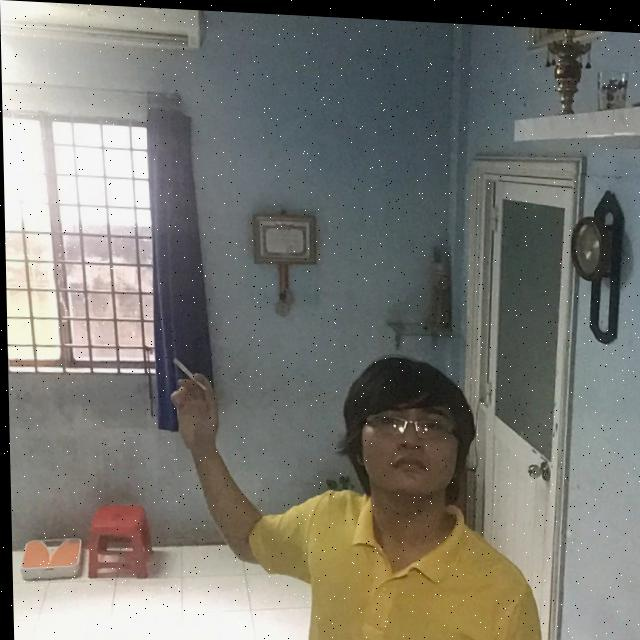cigarette: (171, 356, 206, 389)
